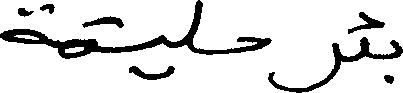X: (296, 38, 339, 92), (0, 0, 44, 48), (237, 32, 268, 84), (62, 16, 93, 63), (186, 0, 203, 58), (391, 35, 402, 88), (360, 7, 368, 63), (158, 30, 165, 83)
